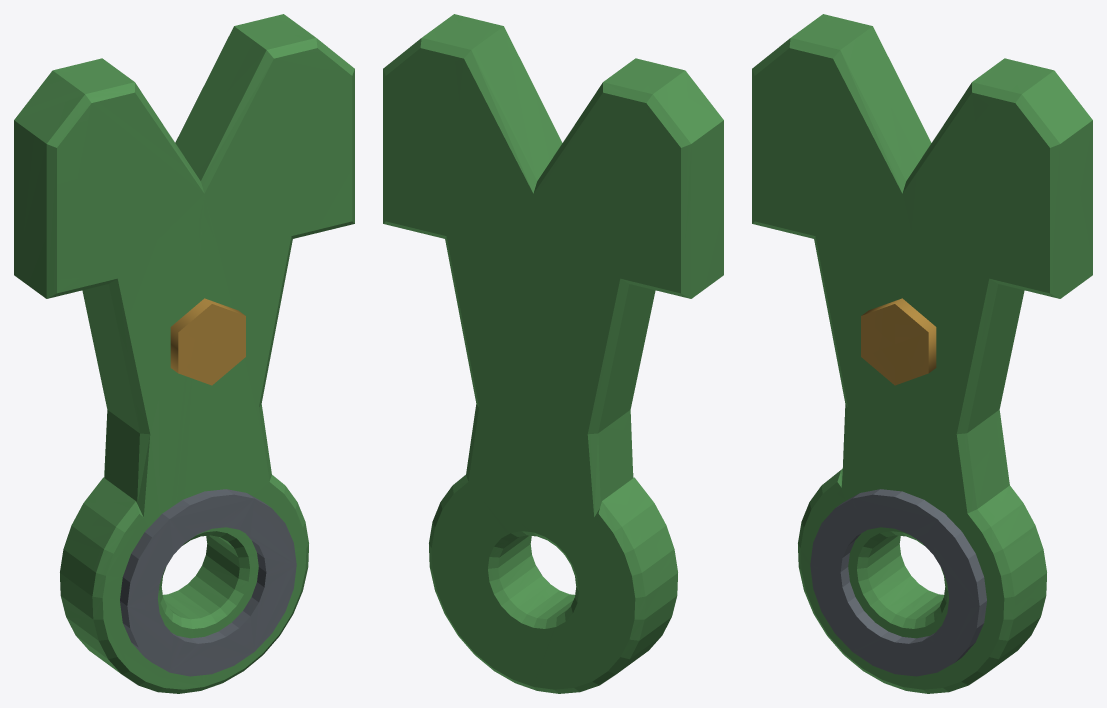
Rendered from defense-button-repair.glb.
3 renders of one model, left to right at view 1: azimuth 30°, elevation 25°; view 2: azimuth 150°, elevation 25°; view 3: azimuth 330°, elevation 25°, orthographic.
Visible parts, largest first — view 1: button-icon; view 2: button-icon; view 3: button-icon.
Part boxes in pixels (<box>): button-icon: <box>14,14,354,693</box>; button-icon: <box>383,14,723,693</box>; button-icon: <box>752,14,1092,693</box>.
Bounding box in the file's own units: 0.071 × 0.1375 × 0.019.
